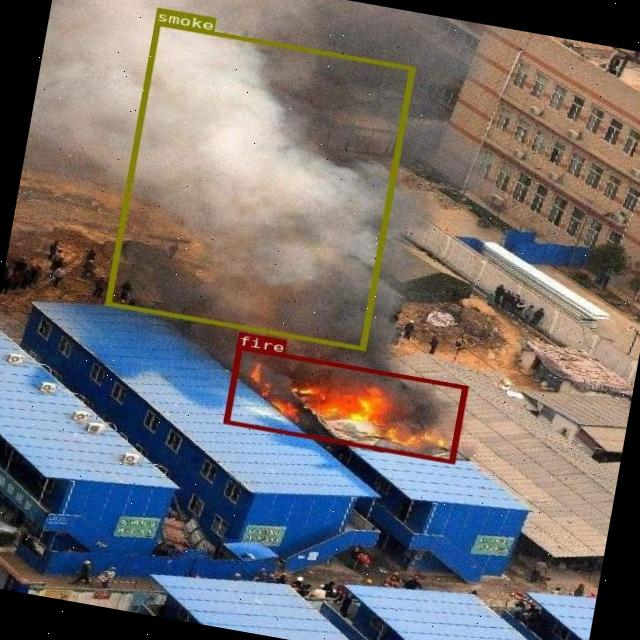fire: (223, 345, 466, 462)
smoke: (104, 21, 414, 349)
